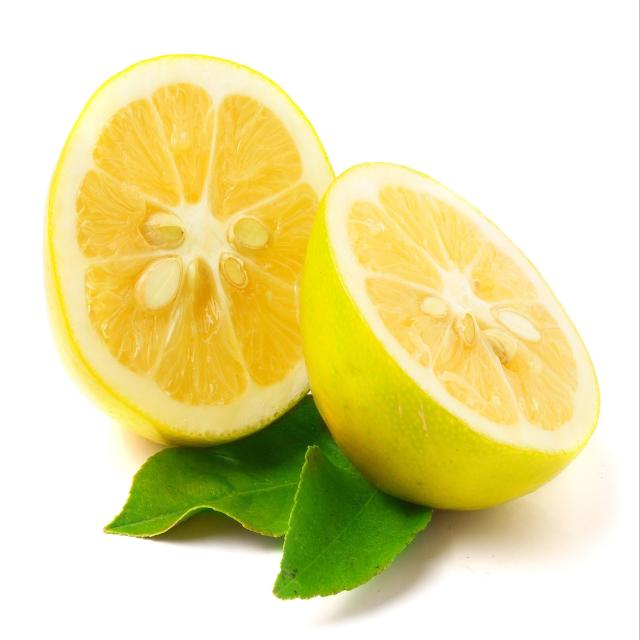lemon: (39, 49, 355, 458), (294, 154, 606, 516)
